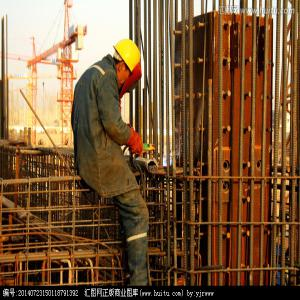yellow: (111, 39, 143, 93)
